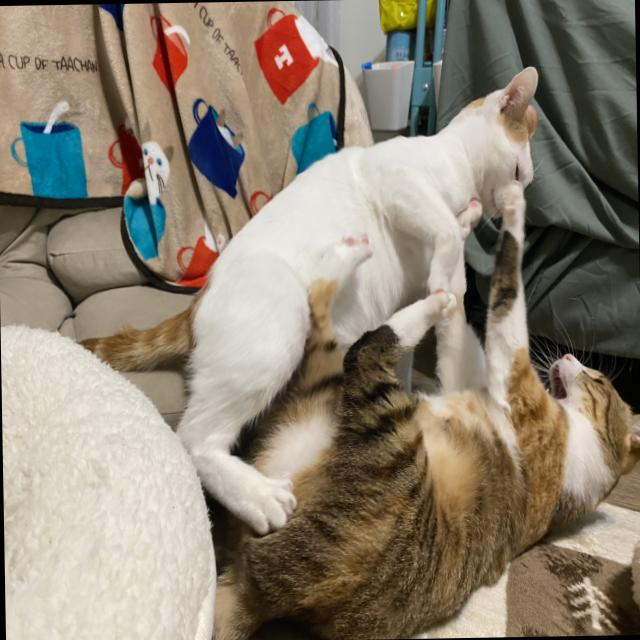cat1: (172, 59, 548, 533)
cat2: (280, 230, 640, 638)
